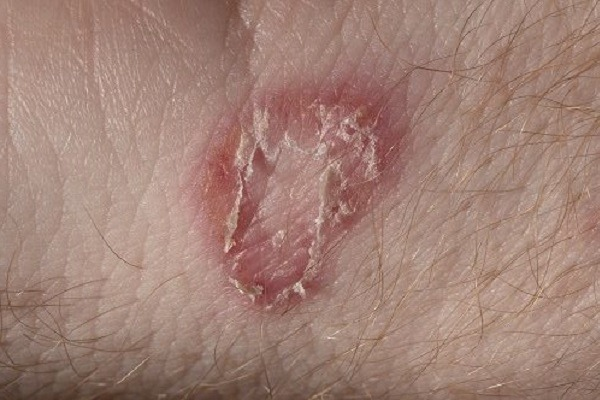Ringworm: (173, 79, 406, 322)
